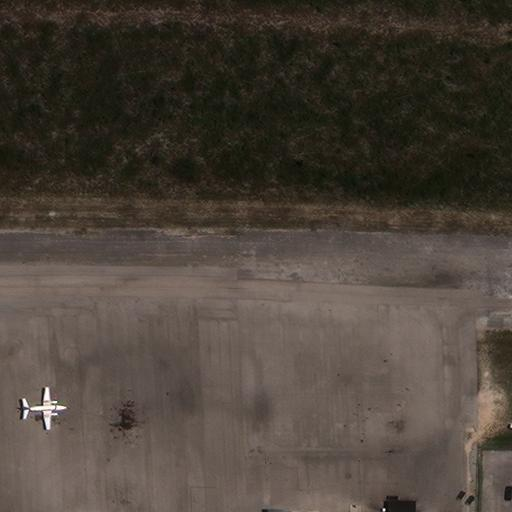Small Civil Transport: (19, 387, 68, 429)
